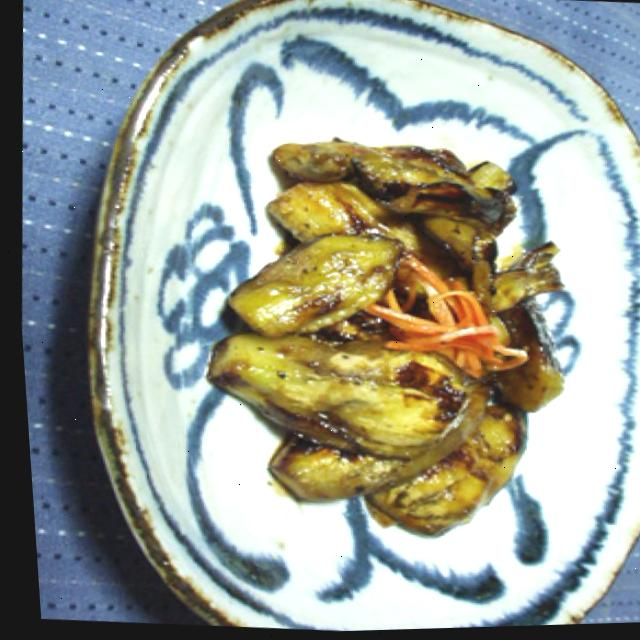鸡蛋料理: (198, 85, 596, 557)
